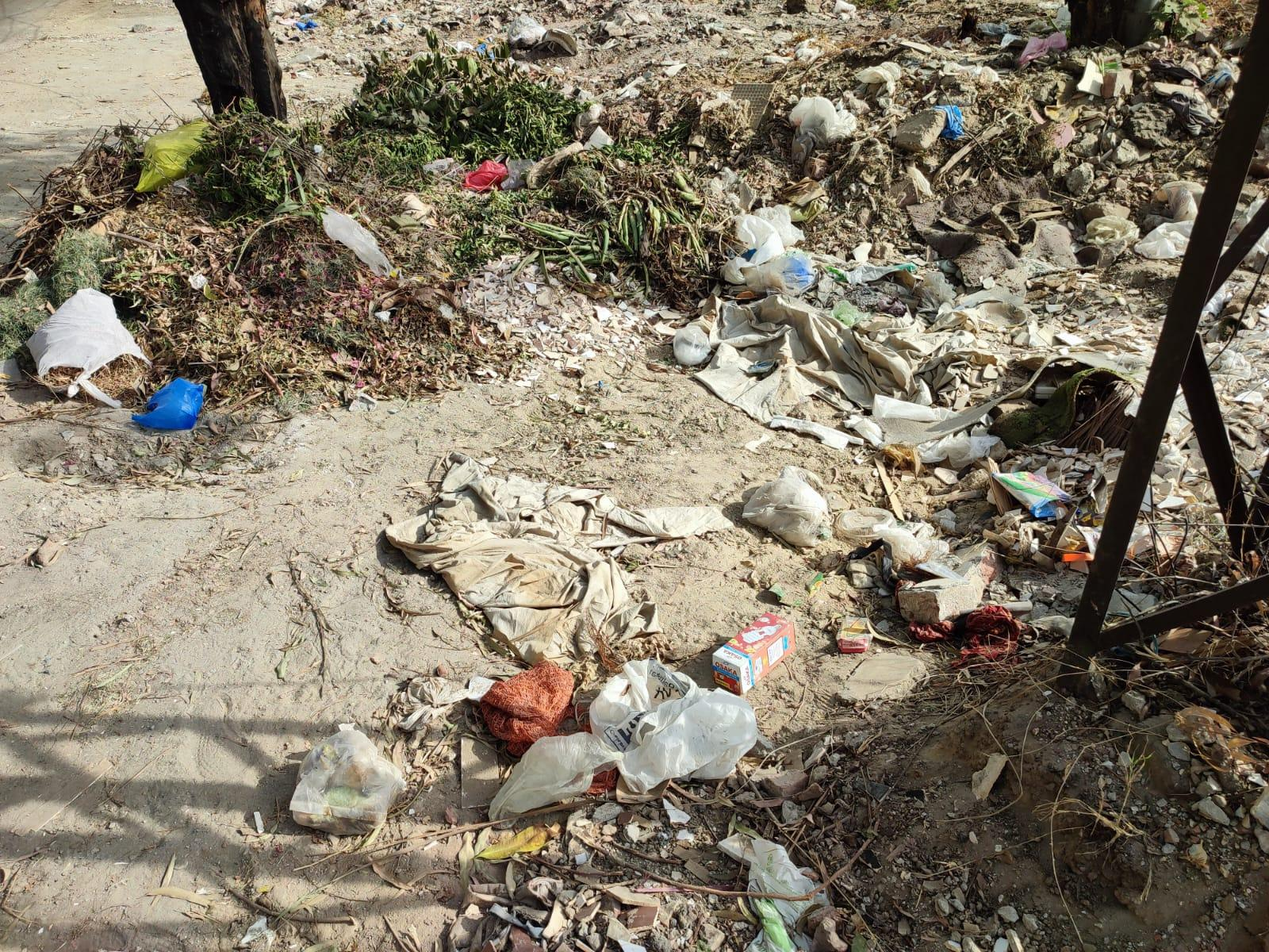garbage: (0, 0, 1269, 607), (449, 605, 847, 952)
